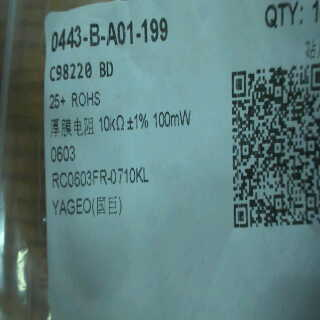10kR: (96, 110, 124, 134)
